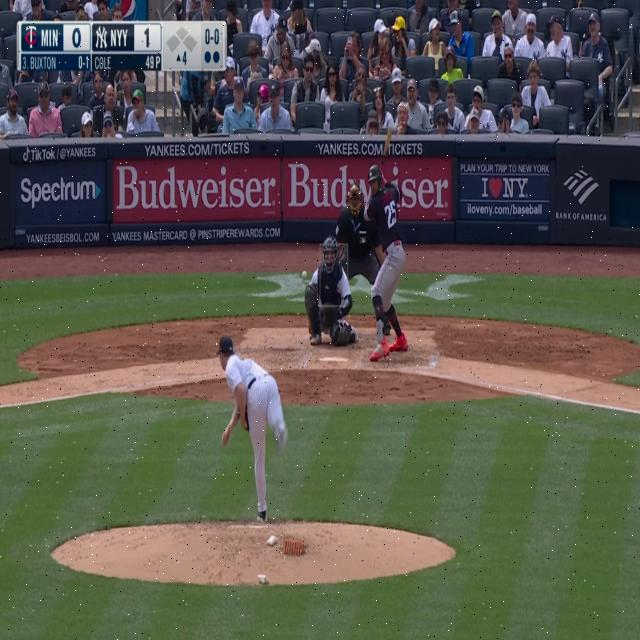baseball: (300, 269, 308, 281)
